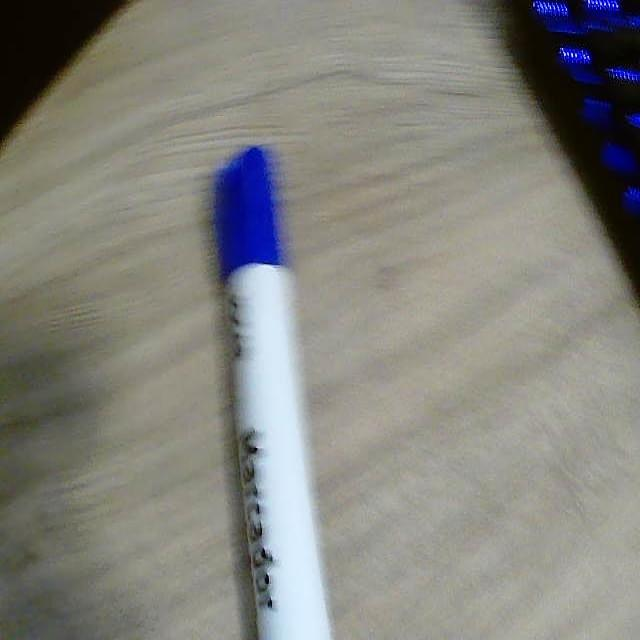caneta: (179, 124, 360, 640)
